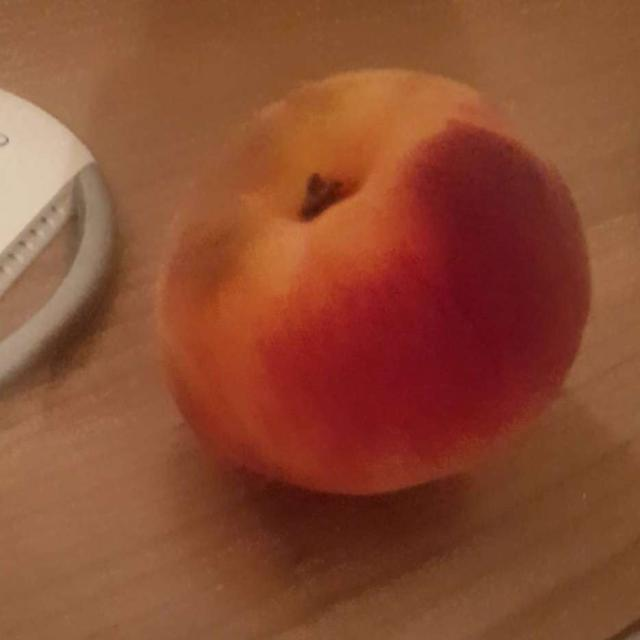Peach: (132, 43, 600, 518)
